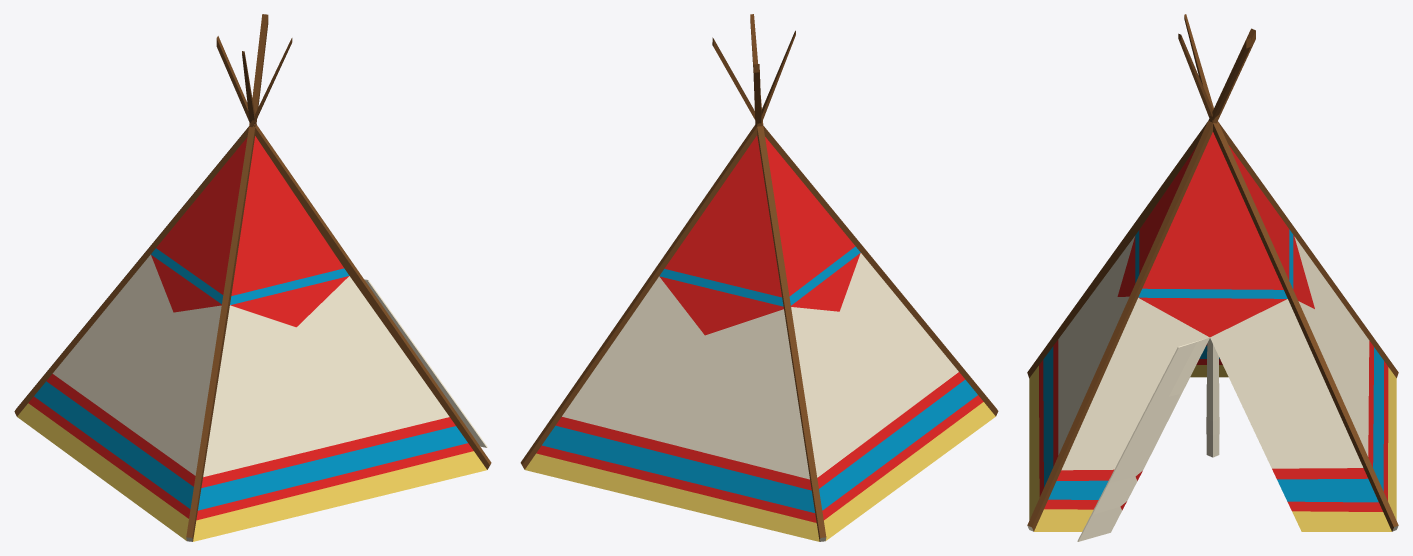
The model's file is CampañaMapuche.fbx.
3 renders of one model, left to right at view 1: azimuth 30°, elevation 25°; view 2: azimuth 150°, elevation 25°; view 3: azimuth 270°, elevation 25°, orthographic. The views are drawn at different scales.
Visible parts, largest first — view 1: Cube; view 2: Cube; view 3: Cube.
Part boxes in pixels (bbox=[...]): Cube: bbox=[14, 14, 491, 541]; Cube: bbox=[520, 14, 998, 541]; Cube: bbox=[1027, 14, 1398, 541].
Bounding box in the file's own units: 902 × 1094 × 851.
